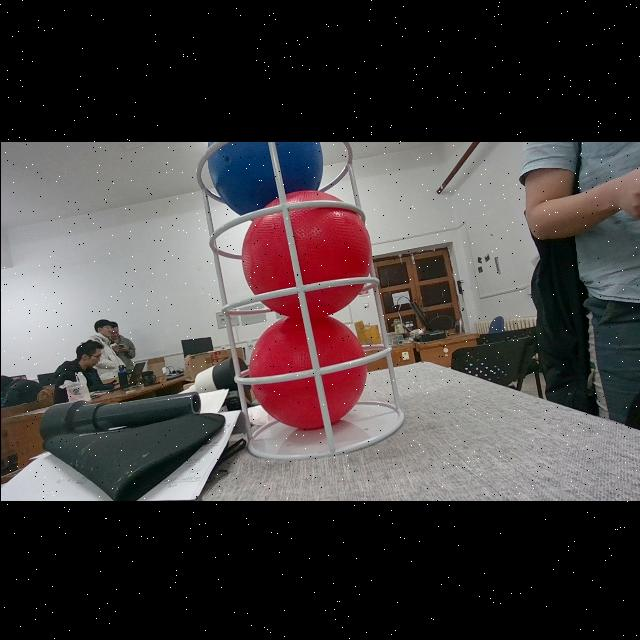B: (206, 140, 322, 220)
R: (241, 188, 371, 314), (248, 309, 366, 429)
S: (194, 140, 404, 460)
